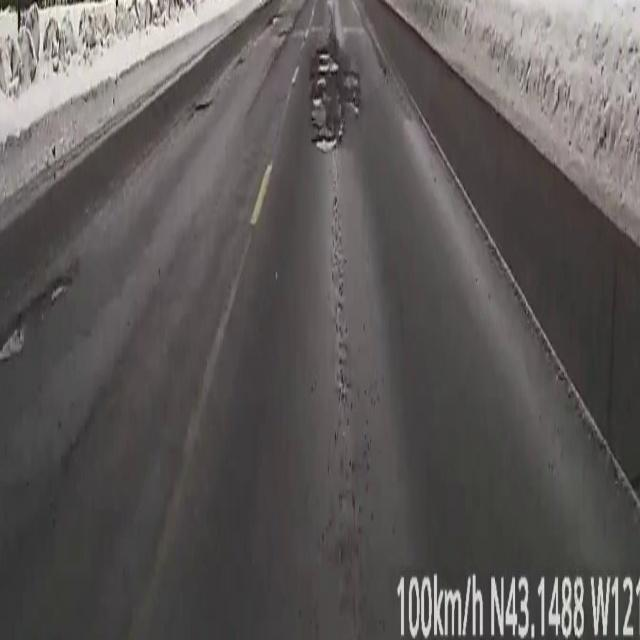pothole: (311, 25, 359, 149), (0, 310, 39, 374), (48, 280, 68, 310)
